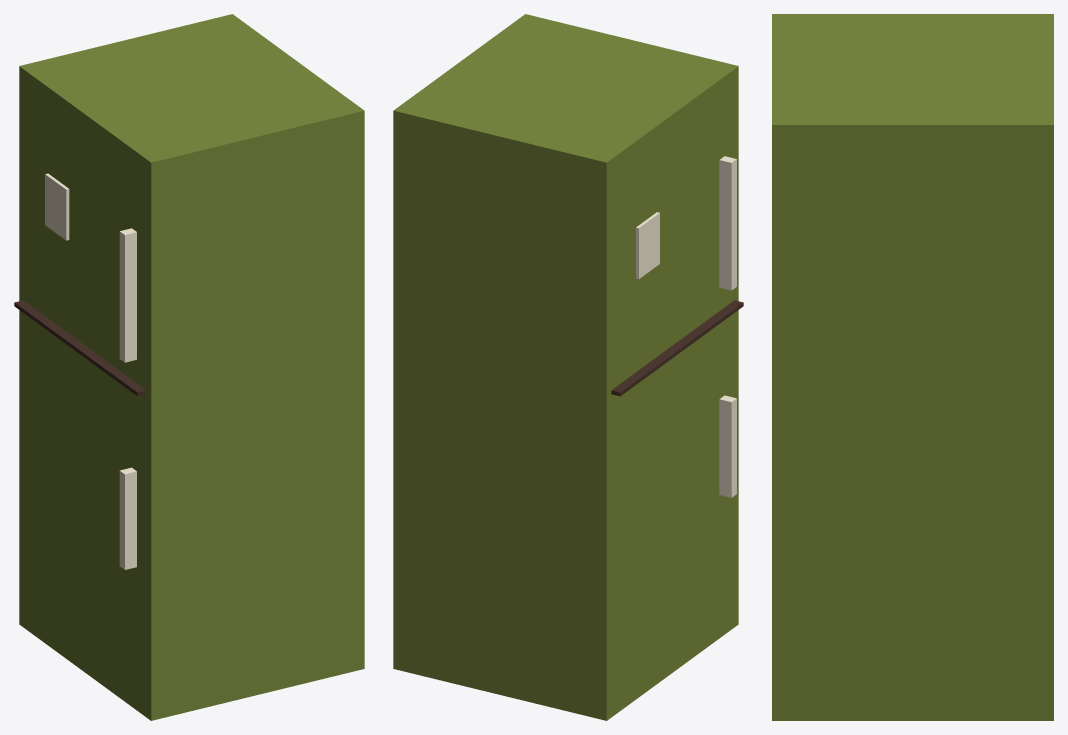
The model's file is fridge.glb.
3 renders of one model, left to right at view 1: azimuth 30°, elevation 25°; view 2: azimuth 150°, elevation 25°; view 3: azimuth 270°, elevation 25°, orthographic. The views are drawn at different scales.
Parts seen in each view (by area): view 1: Box1, Box2, Box3, Box4, Box5; view 2: Box1, Box2, Box3, Box4, Box5; view 3: Box1.
Boxes of the visible parts, x1,y1,x2,y2 form: Box1: (19, 14, 364, 720); Box2: (119, 228, 136, 362); Box3: (119, 467, 136, 569); Box4: (14, 300, 146, 396); Box5: (45, 173, 69, 240); Box1: (393, 14, 738, 720); Box2: (719, 156, 736, 290); Box3: (719, 395, 736, 497); Box4: (611, 300, 743, 396); Box5: (636, 212, 659, 279); Box1: (772, 14, 1053, 720).
Bounding box in the file's own units: 0.74 × 1.75 × 0.75.
